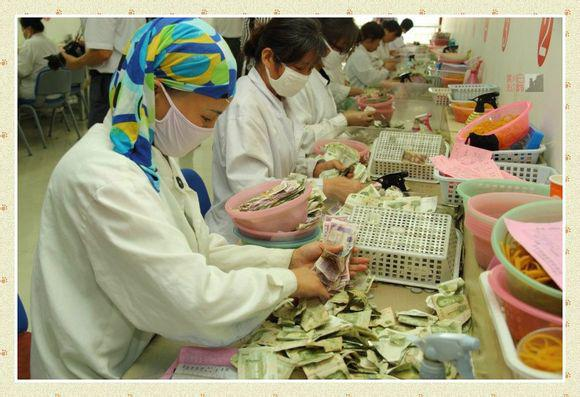OK: (159, 100, 219, 160), (268, 53, 316, 98), (320, 40, 351, 67)
